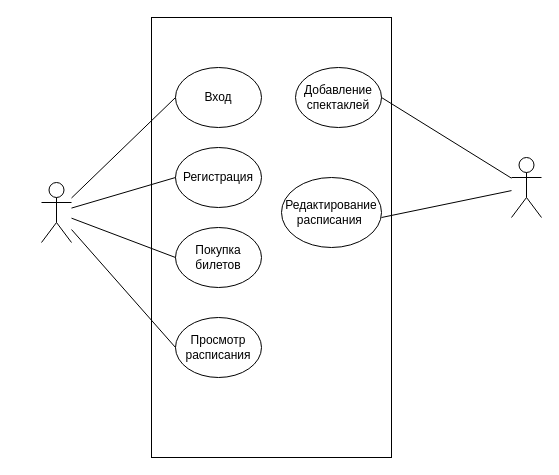
Image size: 559x475. Some labels were removed from this diagram. Here are the shapes that lost their labels. From the top down, the box of each, then its label:
(510, 156, 542, 218): Театр
(40, 182, 72, 242): Пользователь
(150, 16, 392, 458): Сайт
